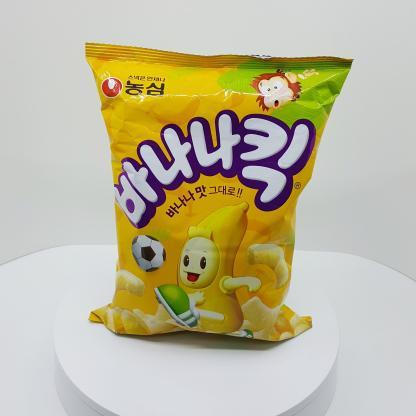Plastic Packaging: (79, 34, 358, 358)
